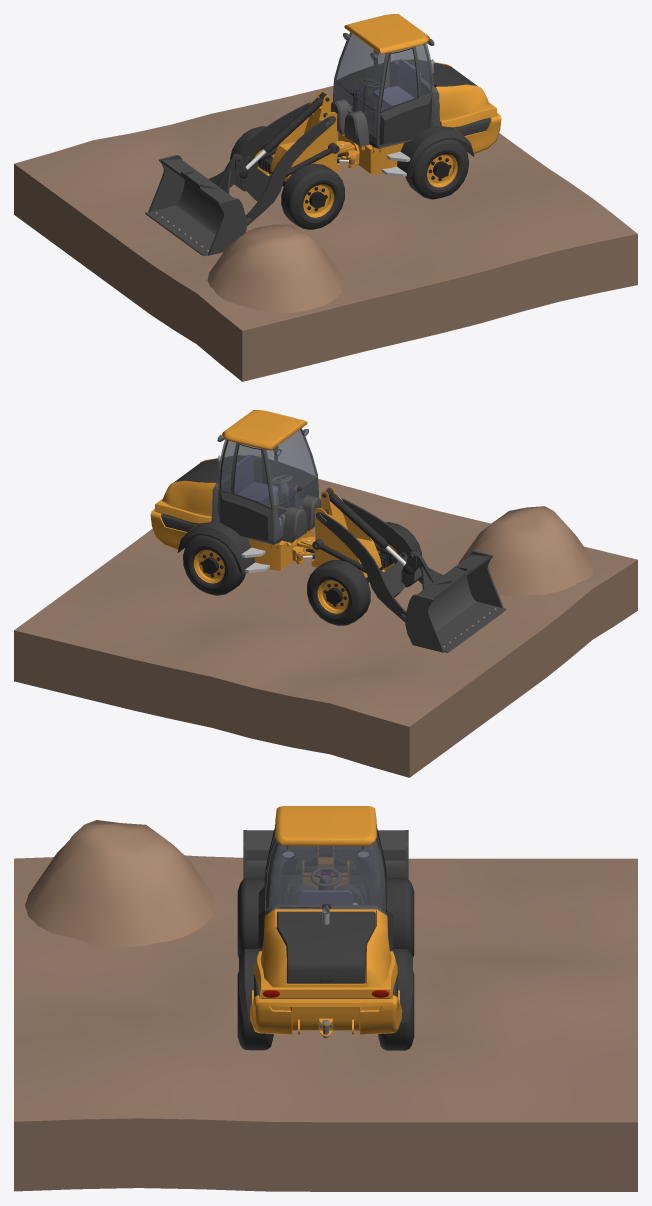
File: landscapeteset.fbx
The picture shows the model from 3 angles, top to bottom: view 1: azimuth 30°, elevation 25°; view 2: azimuth 150°, elevation 25°; view 3: azimuth 270°, elevation 25°; orthographic projection. The views are drawn at different scales.
Parts seen in each view (by area): view 1: pPlane1, polySurface203, pDisc1; view 2: pPlane1, polySurface203, pDisc1; view 3: pPlane1, polySurface203, pDisc1.
Boxes of the visible parts, x1,y1,x2,y2 form: pPlane1: (14,86,637,381); polySurface203: (145,14,501,256); pDisc1: (207,224,342,312); pPlane1: (14,479,637,777); polySurface203: (150,410,506,652); pDisc1: (458,506,593,596); pPlane1: (14,855,637,1191); polySurface203: (237,806,414,1050); pDisc1: (25,820,213,947).
Size of the model in its own units: 40.05 by 19.78 by 40.05.
